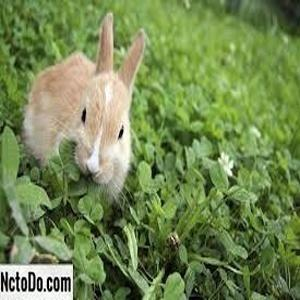rabbit: (23, 14, 144, 197)
